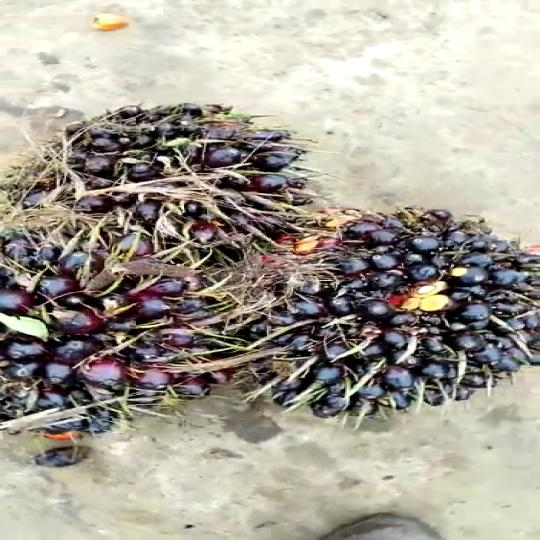mentah: (234, 204, 540, 432), (16, 88, 342, 268), (0, 216, 245, 447)
